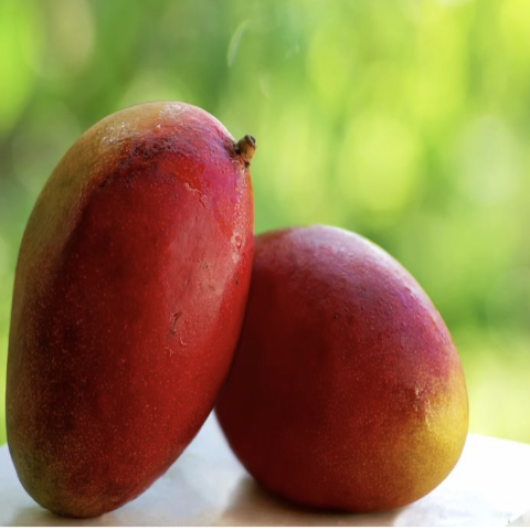mango: (1, 96, 286, 530), (178, 221, 495, 525)
